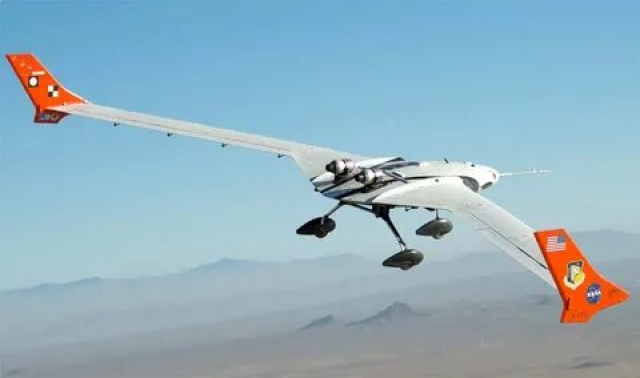military drone: (5, 51, 630, 323)
